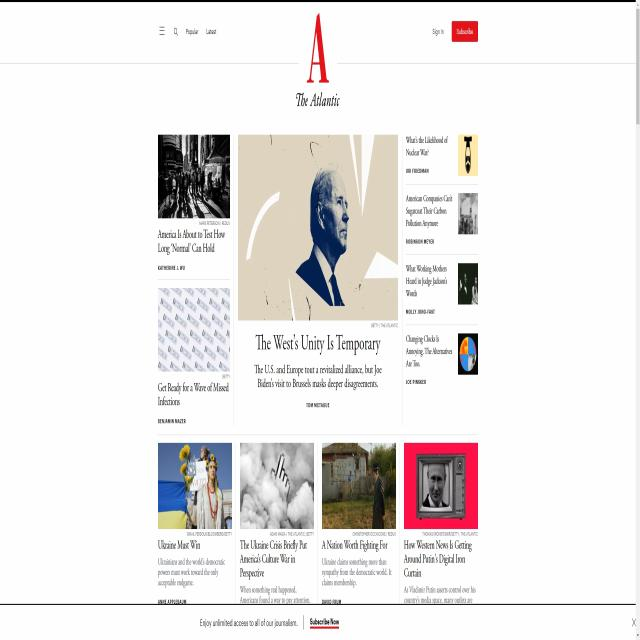menu-bar: (429, 16, 480, 47)
search: (170, 24, 180, 42)
tab-bar: (155, 18, 224, 50)
